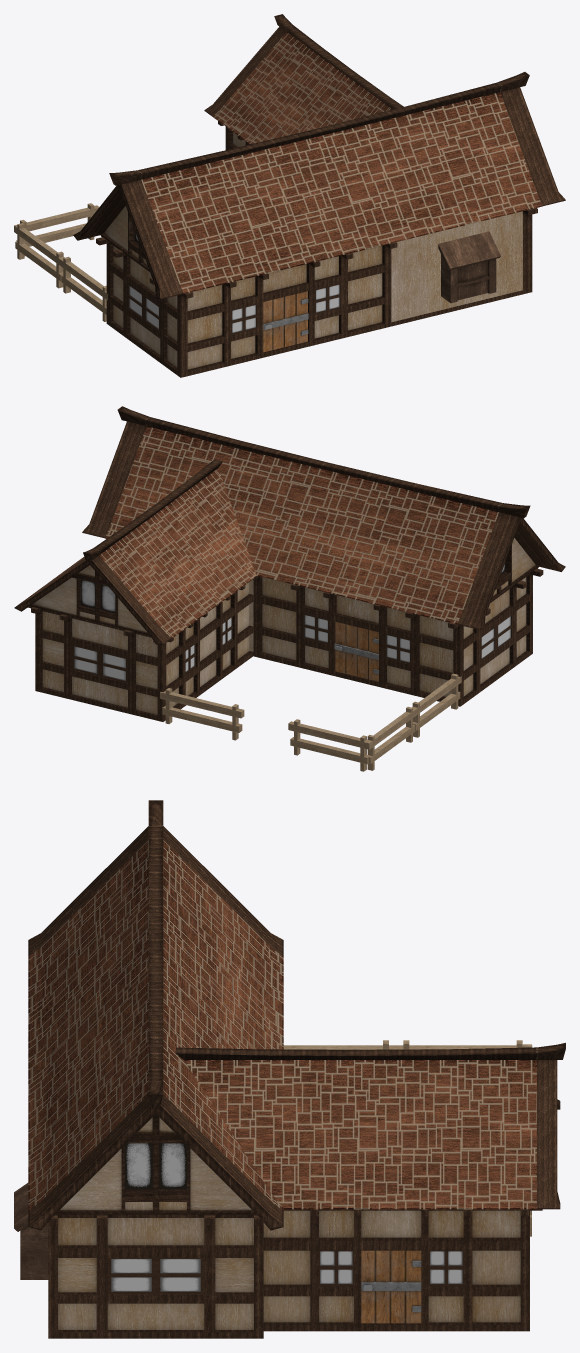
File: House_2.fbx
3 renders of one model, top to bottom at view 1: azimuth 30°, elevation 25°; view 2: azimuth 150°, elevation 25°; view 3: azimuth 270°, elevation 25°, orthographic. The views are drawn at different scales.
Visible parts, largest first — view 1: roof10, block13, roof9, box1, door12, fence4, fence7, fence5, window75, window78, window74; view 2: roof10, roof9, block13, block14, door13, fence6, fence7, window72, fence4, fence5, window75, window76 (+1 smaller); view 3: roof10, roof9, block14, block13, door11, window68, box1, window70, window71.
Boxes of the visible parts, left/top/right/bottom form: roof10: left=73, top=72, right=565, bottom=299; block13: left=96, top=206, right=542, bottom=377; roof9: left=204, top=14, right=403, bottom=144; box1: left=438, top=231, right=500, bottom=303; door12: left=263, top=291, right=308, bottom=352; fence4: left=14, top=223, right=64, bottom=288; fence7: left=14, top=203, right=99, bottom=256; fence5: left=60, top=256, right=107, bottom=321; window75: left=127, top=283, right=160, bottom=331; window78: left=314, top=283, right=341, bottom=314; window74: left=231, top=303, right=257, bottom=334; roof10: left=82, top=406, right=565, bottom=629; roof9: left=14, top=459, right=257, bottom=644; block13: left=106, top=538, right=543, bottom=706; block14: left=28, top=582, right=253, bottom=721; door13: left=334, top=621, right=378, bottom=681; fence6: left=160, top=688, right=244, bottom=740; fence7: left=288, top=719, right=372, bottom=771; window72: left=71, top=645, right=127, bottom=682; fence4: left=364, top=706, right=416, bottom=770; fence5: left=412, top=673, right=461, bottom=737; window75: left=480, top=614, right=512, bottom=661; window76: left=303, top=614, right=328, bottom=644; roof10: left=28, top=800, right=283, bottom=1230; roof9: left=176, top=1042, right=565, bottom=1209; block14: left=263, top=1209, right=542, bottom=1331; block13: left=48, top=1214, right=263, bottom=1338; door11: left=361, top=1250, right=421, bottom=1323; window68: left=107, top=1258, right=204, bottom=1294; box1: left=14, top=1183, right=48, bottom=1279; window70: left=428, top=1250, right=463, bottom=1286; window71: left=319, top=1250, right=353, bottom=1286.
Size of the model in its own units: 22.57 by 9.53 by 17.87.
